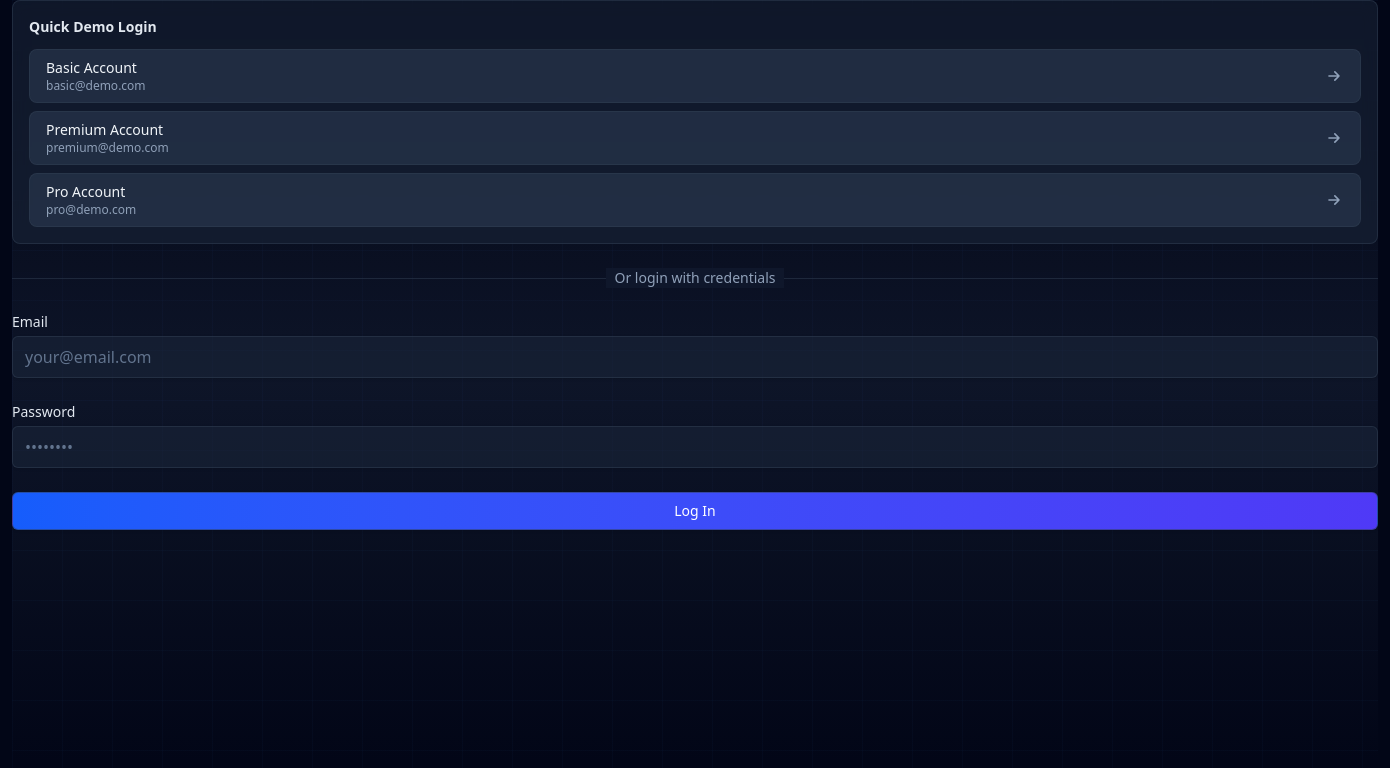
Test: LoginForm › Submission Flow › should disable form inputs during submission
Type "test@example.com" into the field with test id "email-input" at (695, 357), box [12,336,1378,378]
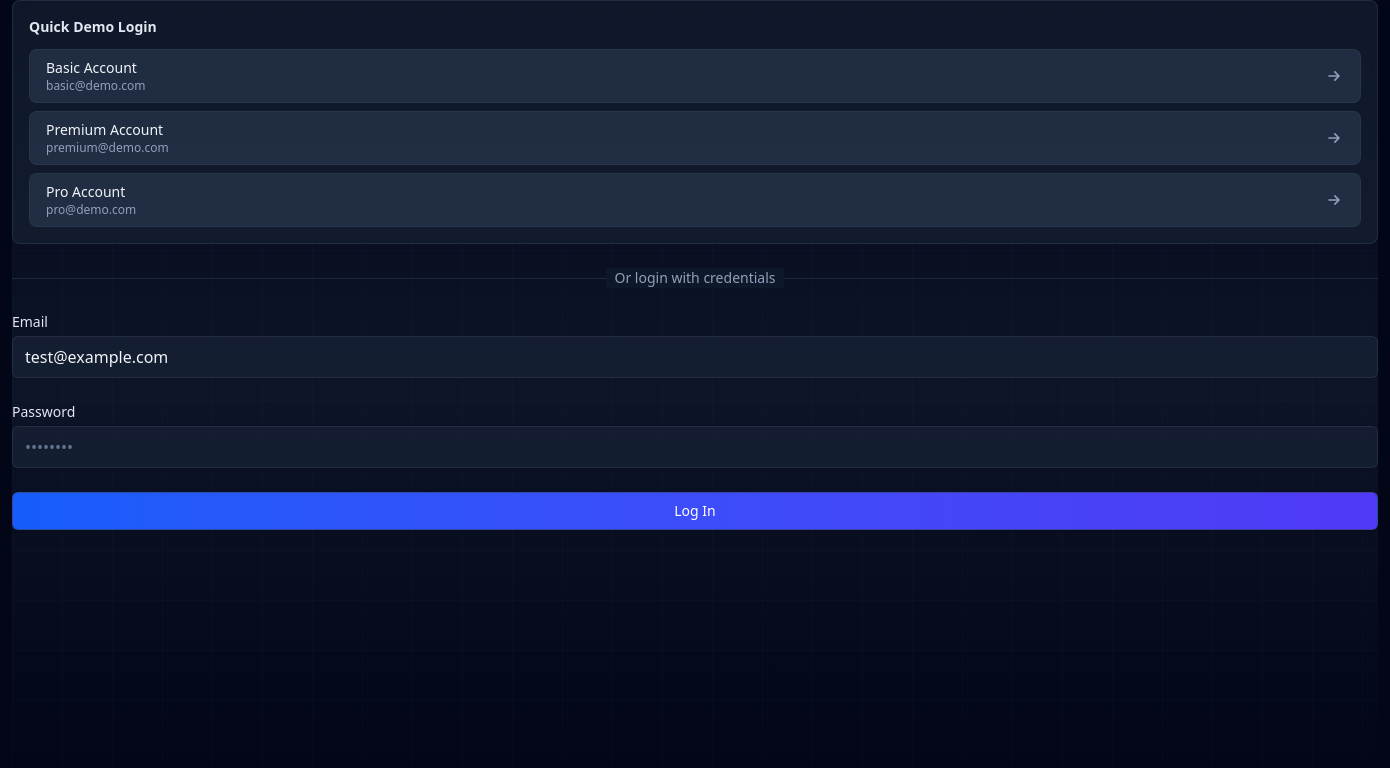
Type "password123" into the password field with test id "password-input" at (695, 447), box [12,426,1378,468]
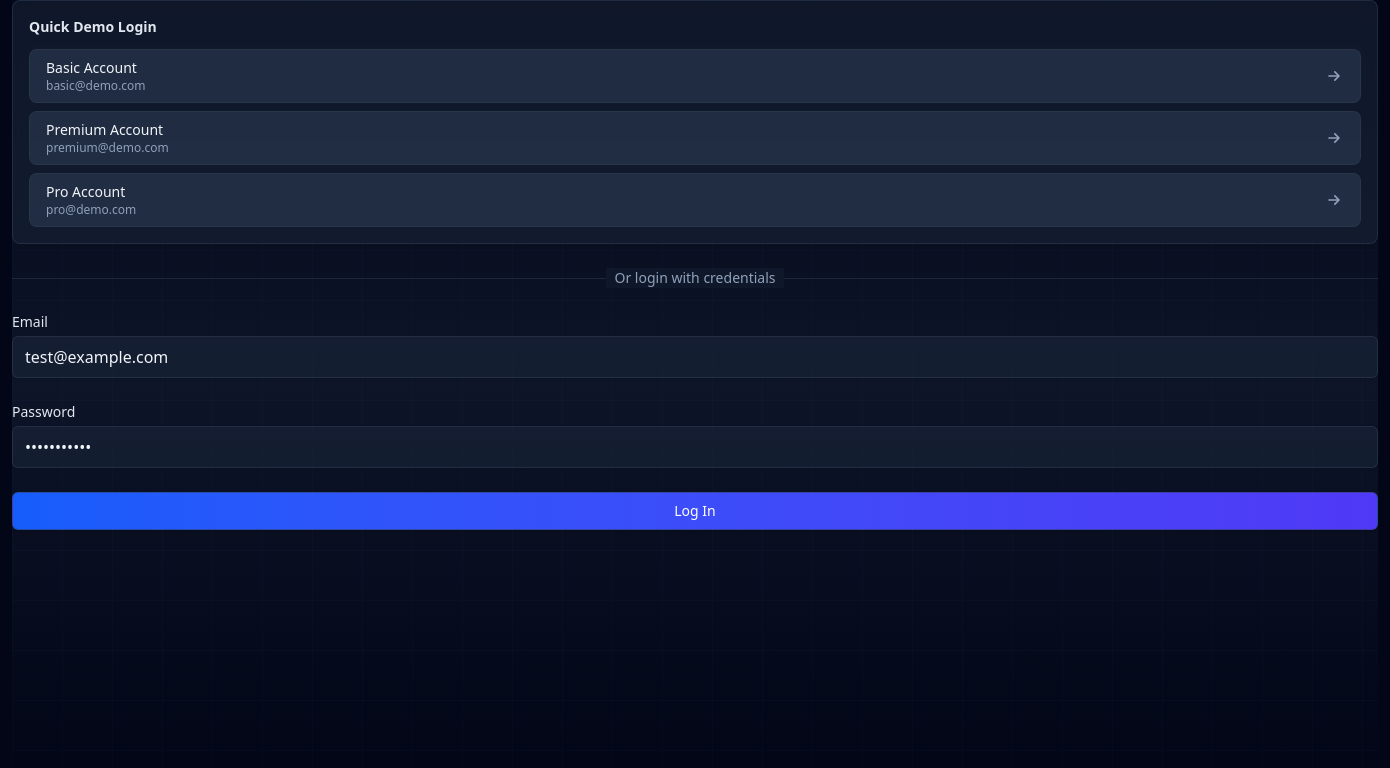
Click the button with test id "submit-button" at (695, 511), box [12,492,1378,530]
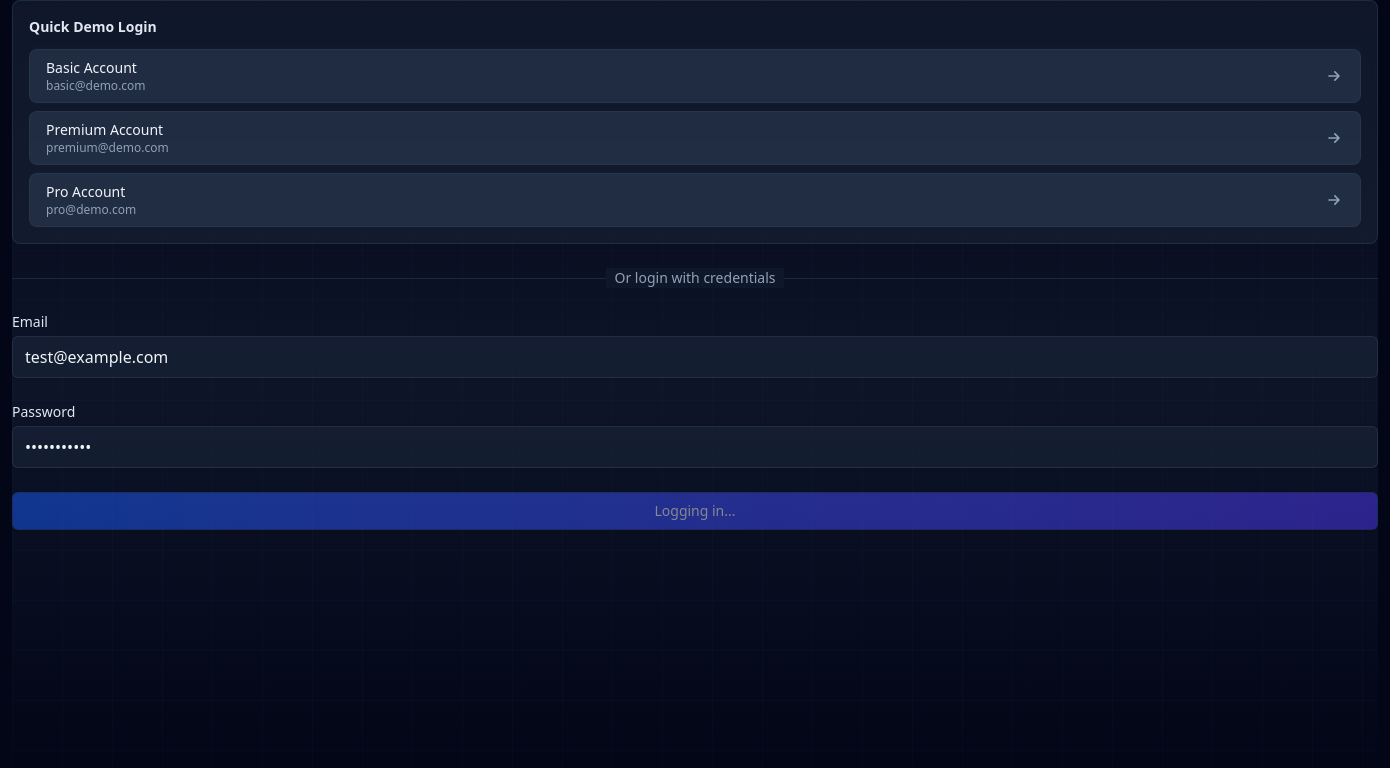
Result: the button with test id "submit-button" reads "Logging in..." at [12,492,1378,530]
Result: the button with test id "submit-button" is disabled at [12,492,1378,530]
